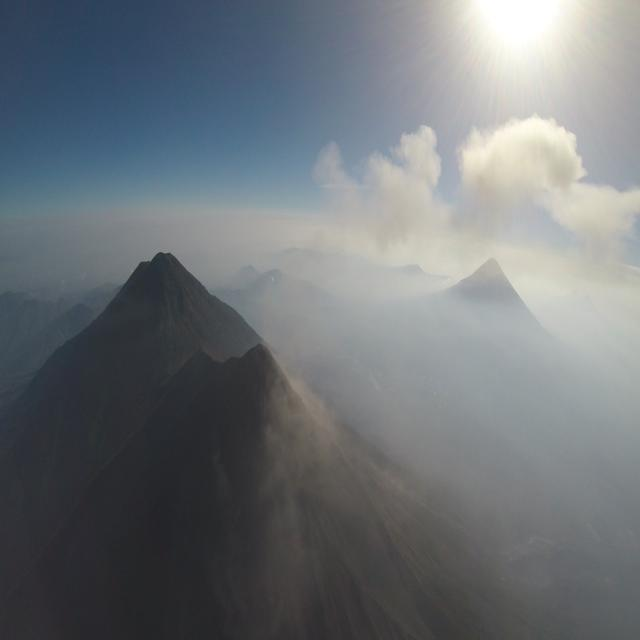Plume: (298, 115, 442, 258), (457, 105, 588, 216)
Summit: (220, 340, 294, 378)
